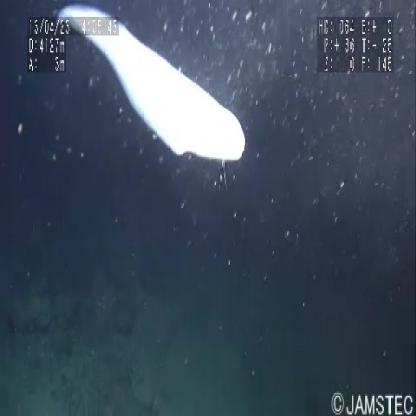Bio: (50, 2, 249, 197)
